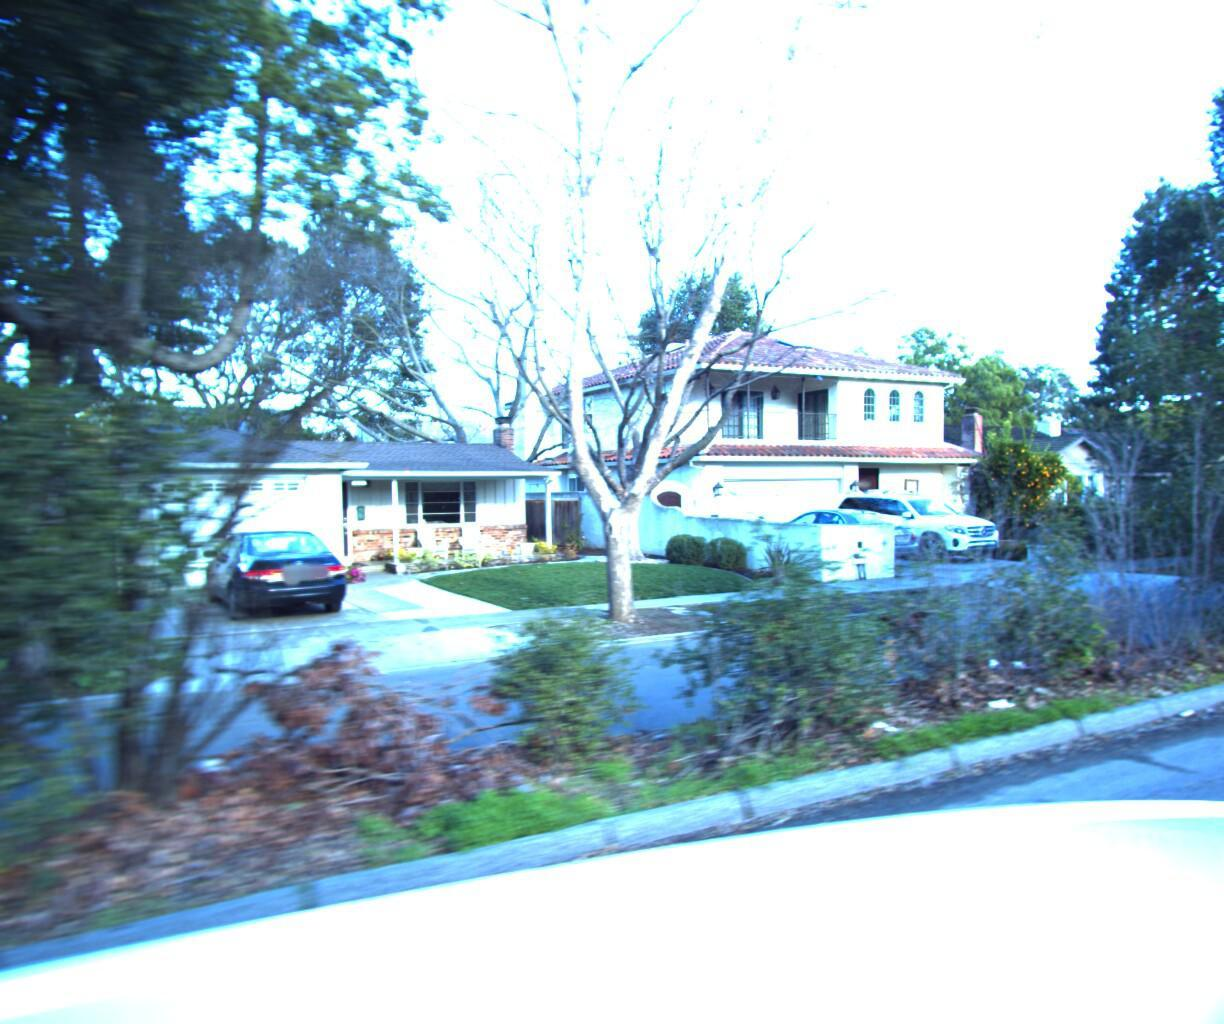car: (204, 519, 361, 630), (825, 484, 1016, 564), (757, 502, 931, 569)
